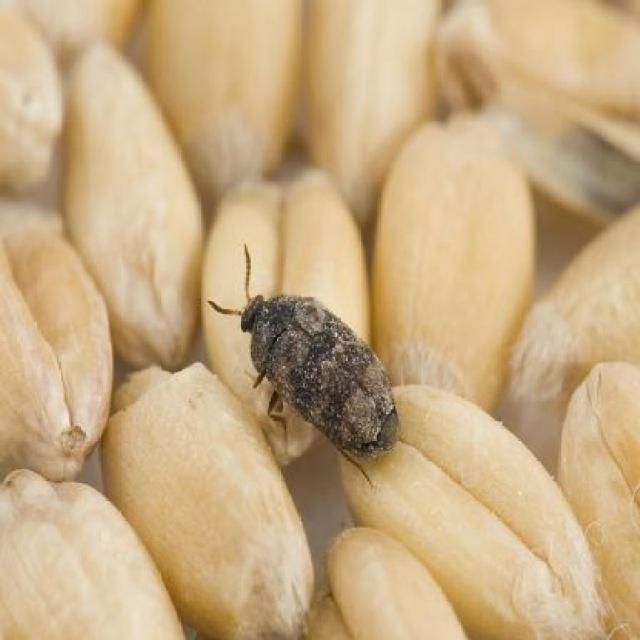rice-bug: (229, 270, 406, 465)
